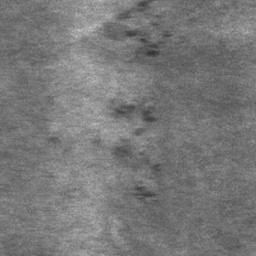Rolled in scale: (126, 30, 163, 57), (133, 186, 158, 202), (137, 0, 155, 13), (115, 105, 136, 115), (144, 110, 158, 123), (151, 15, 161, 27), (152, 164, 161, 172)
